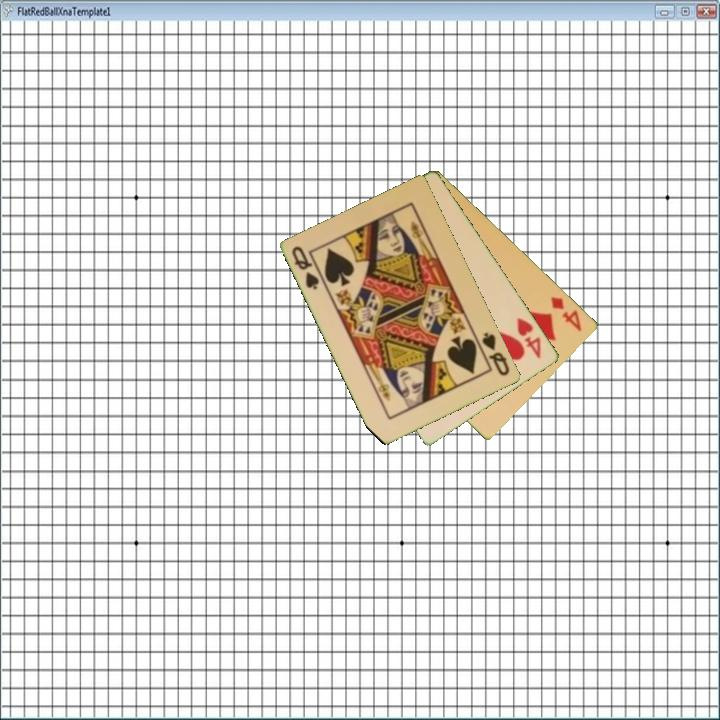4d: (547, 293, 585, 334)
4h: (514, 314, 544, 362)
Qs: (479, 328, 513, 379), (288, 242, 322, 293)
